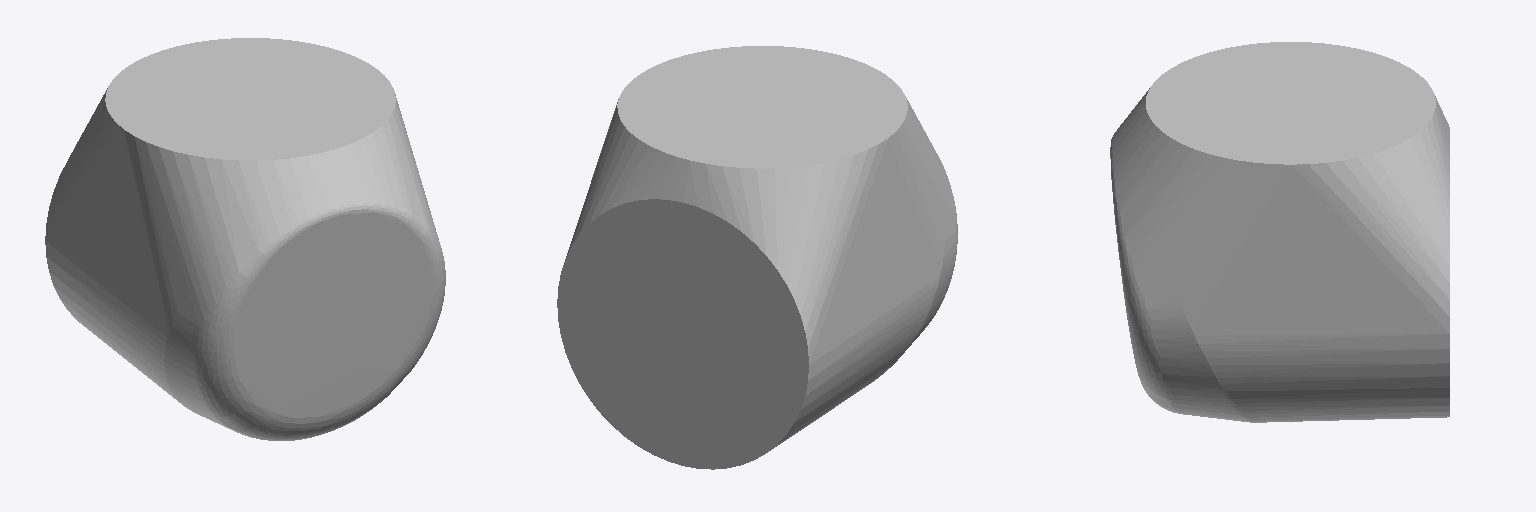
File: shoulder_link_collisions_shoulder_mesh.obj
3 views of the same model, side by side, from view 1: azimuth 30°, elevation 25°; view 2: azimuth 150°, elevation 25°; view 3: azimuth 270°, elevation 25° (orthographic).
Size of the model in its own units: 0.1202 by 0.1345 by 0.1354.